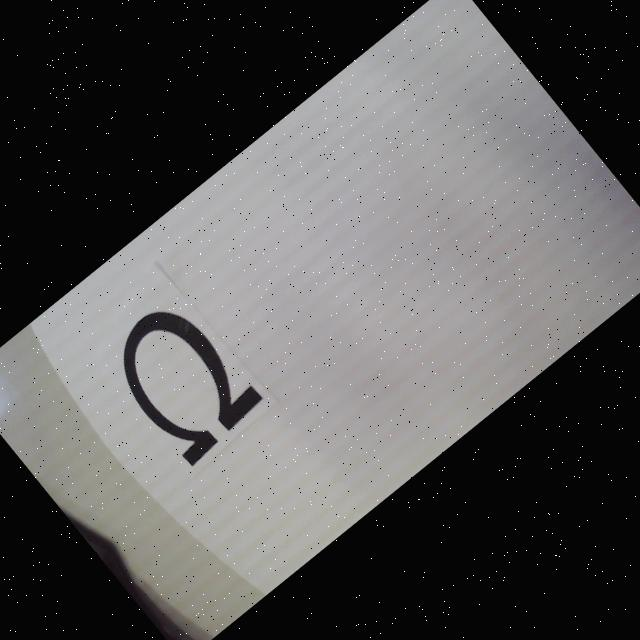OMEGA: (98, 291, 268, 468)
